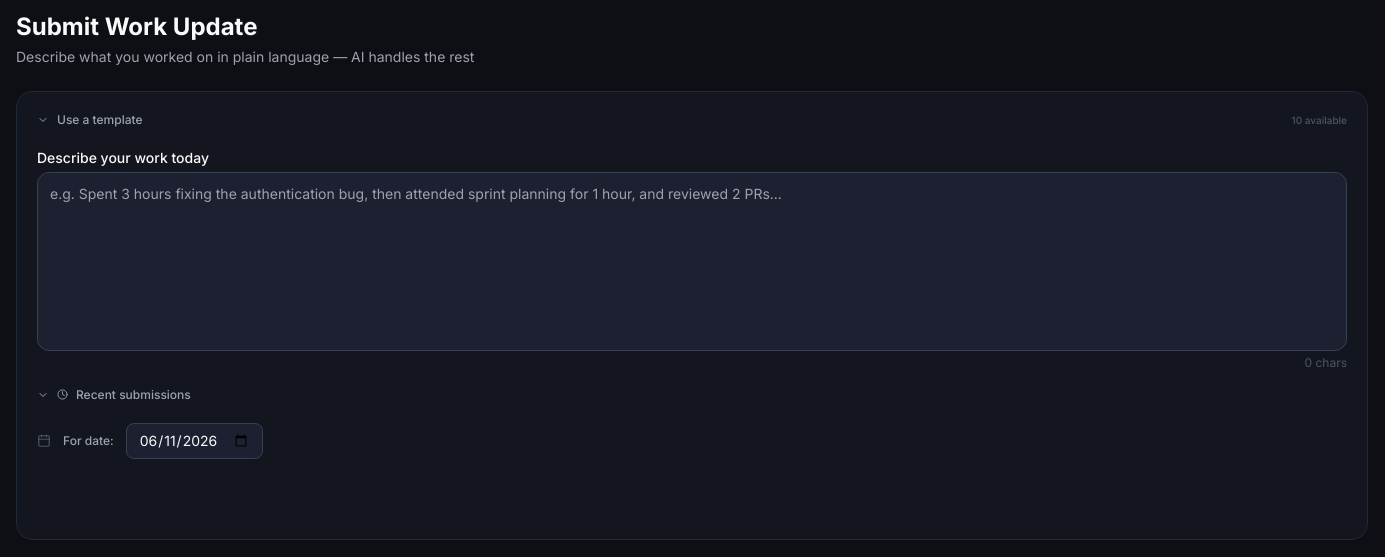
Test case: SubmitUpdatePage — form state › submit button is enabled when textarea has text
Replace the text in the text box with "Worked on bug fixes for 3 hours" at {"x": 692, "y": 261}, box 37,172 -> 1347,351
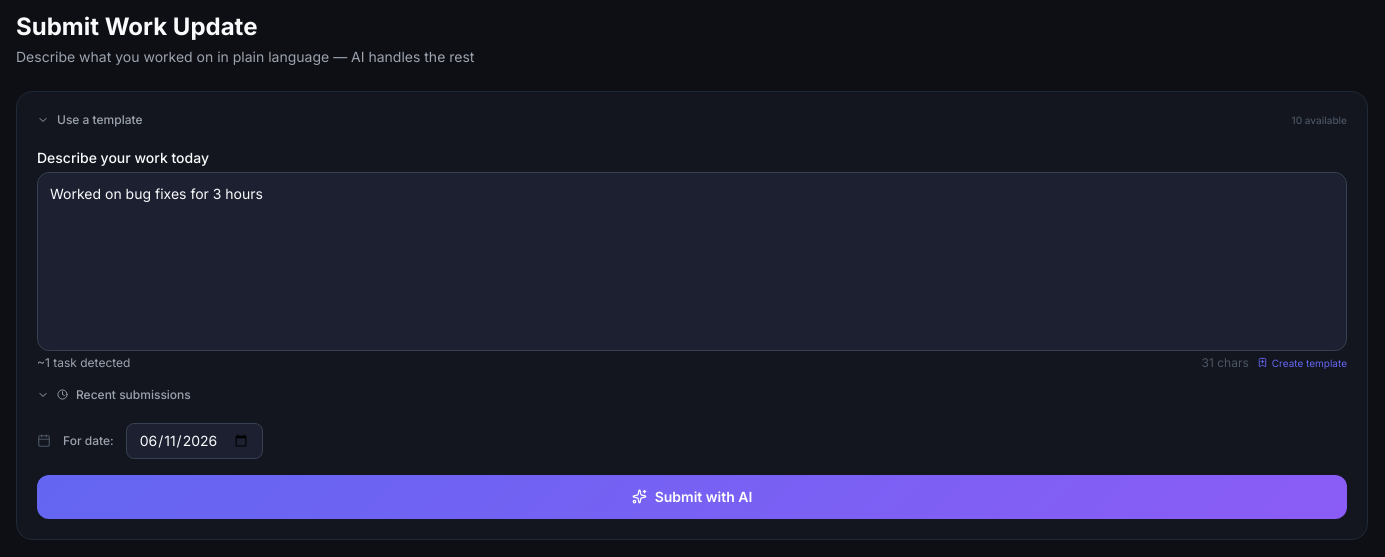
Check: the button "Submit with AI" is enabled, box 37,475 -> 1347,519
